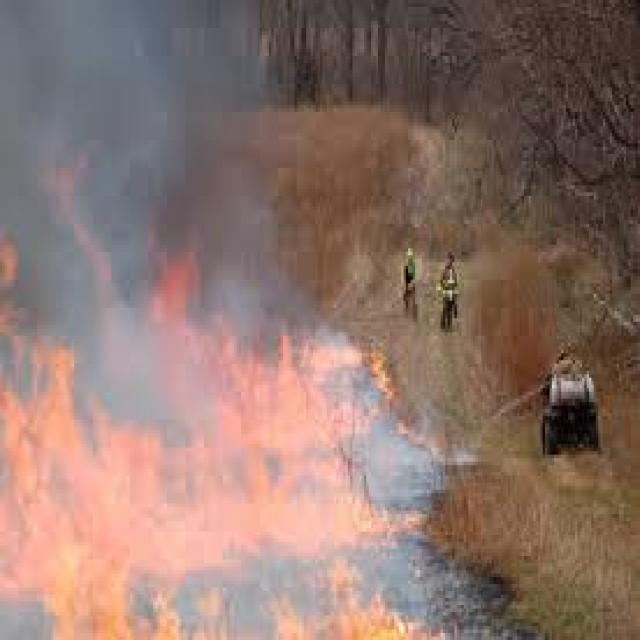Fire: (0, 150, 259, 640), (154, 285, 415, 550), (273, 559, 436, 640)
Smoke: (0, 0, 329, 315), (356, 408, 440, 508)
